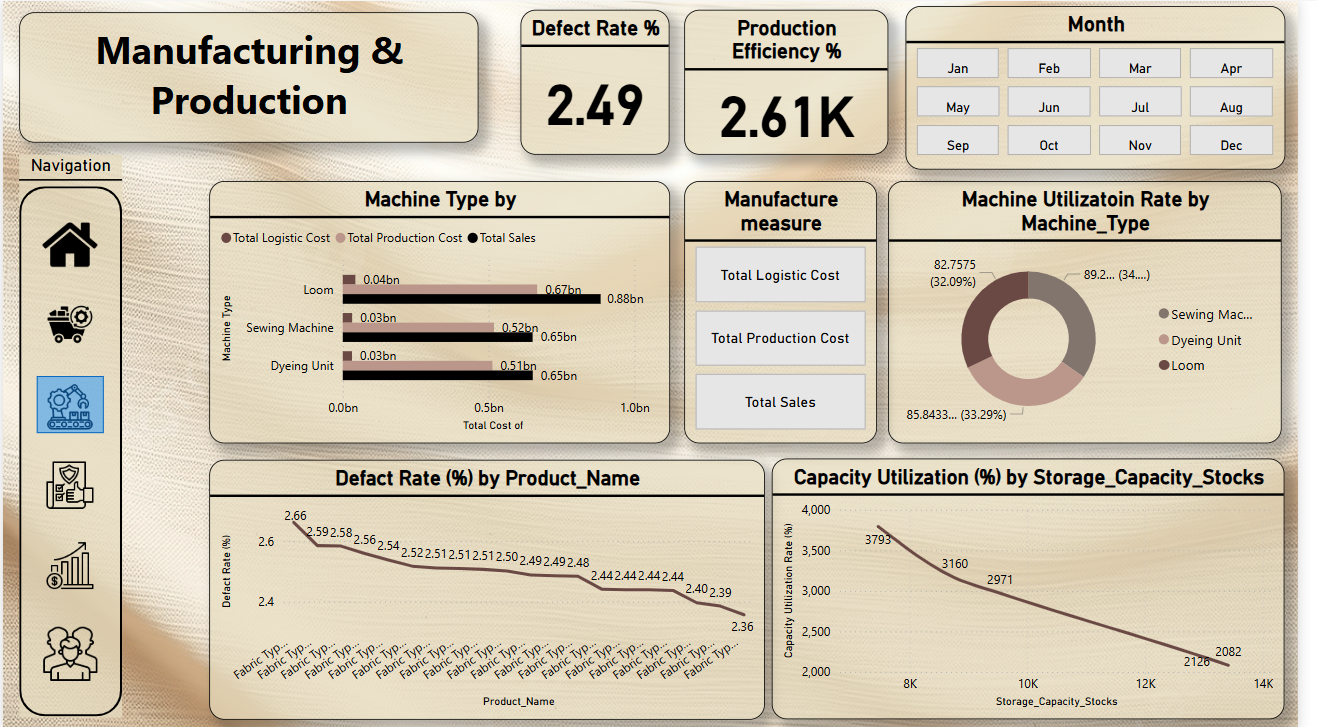

The dashboard page shown, as its layout file describes it:
{"tool":"powerbi","page":{"name":"Manufacturing & Production","canvas":[1280,720],"ordinal":2},"visuals":[{"type":"donutChart","fields":{"Y":["A Measure Tabel.Machine Utilizatoin Rate"],"Category":["Dim_Machine.Machine_Type"]},"box":[873.6,177.9,389,258.9],"z":0},{"type":"lineChart","fields":{"Category":["Dim_Product.Product_Name"],"Y":["A Measure Tabel.Defact Rate (%)"]},"box":[203.7,452.8,548.5,256.4],"z":1000},{"type":"lineChart","title":"Capacity Utilization (%) by Storage_Capacity_Stocks","fields":{"Y":["A Measure Tabel.Capacity Utilization Rate (%)"],"Category":["Dim_Warehouse.Storage_Capacity_Stocks"]},"box":[759.5,451.5,506.8,257.7],"z":2000},{"type":"clusteredBarChart","fields":{"Y":["A Measure Tabel.Total Logistic Cost","A Measure Tabel.Total Production Cost","A Measure Tabel.Total Sales"],"Category":["Dim_Machine.Machine_Type"]},"box":[203.7,177.9,455.2,258.9],"z":3000},{"type":"card","title":"Defect Rate %","fields":{"Values":["A Measure Tabel.Defact Rate (%)"]},"box":[511.7,8.6,147.2,143.6],"z":4000},{"type":"advancedSlicerVisual","title":"Manufacture measure","fields":{"Values":["manufacture measure.manufacture measure"]},"box":[672.4,177.9,190.2,258.9],"z":5000},{"type":"advancedSlicerVisual","fields":{"Values":["Date.Month"]},"box":[890.8,4.9,375.5,162],"z":6000},{"type":"card","title":"Production Efficiency %","fields":{"Values":["A Measure Tabel.Production Efficiency Rate (%)"]},"box":[672.4,8.6,201.2,143.6],"z":7000},{"type":"textbox","box":[16,11,454,128.8],"z":8000},{"type":"shape","title":"Navigation","box":[16,152.1,101.8,555.8],"z":9000,"group":"g1"},{"type":"image","box":[32.7,291.2,66.3,56.4],"z":10000,"group":"g1"},{"type":"image","box":[32.7,373.5,66.3,56.4],"z":11000,"group":"g1"},{"type":"image","box":[32.7,449.5,66.3,57.7],"z":12000,"group":"g1"},{"type":"image","box":[32.7,529.3,66.3,56.4],"z":13000,"group":"g1"},{"type":"image","box":[32.7,612.7,66.3,65],"z":14000,"group":"g1"},{"type":"shape","box":[33.2,370.5,66.3,56.4],"z":15000,"group":"g1"},{"type":"image","box":[32.7,209,66.3,63.8],"z":16000,"group":"g1"},{"type":"group","id":"g1","title":"Group 1","box":[16,152.1,101.8,555.8],"z":16001}]}

Visuals, with their boxes in screenshot pixels (x1, y1, x2, y2), scaled from the page's 1280x720 canvas onto the 1317x727 screenshot:
donutChart - A Measure Tabel.Machine Utilizatoin Rate x Dim_Machine.Machine_Type: [x1=899, y1=180, x2=1299, y2=441]
lineChart - Dim_Product.Product_Name x A Measure Tabel.Defact Rate (%): [x1=210, y1=457, x2=774, y2=716]
"Capacity Utilization (%) by Storage_Capacity_Stocks" lineChart: [x1=781, y1=456, x2=1303, y2=716]
clusteredBarChart - A Measure Tabel.Total Logistic Cost x A Measure Tabel.Total Production Cost: [x1=210, y1=180, x2=678, y2=441]
"Defect Rate %" card: [x1=526, y1=9, x2=678, y2=154]
"Manufacture measure" advancedSlicerVisual: [x1=692, y1=180, x2=888, y2=441]
advancedSlicerVisual - Date.Month: [x1=917, y1=5, x2=1303, y2=169]
"Production Efficiency %" card: [x1=692, y1=9, x2=899, y2=154]
textbox: [x1=16, y1=11, x2=484, y2=141]
"Navigation" shape: [x1=16, y1=154, x2=121, y2=715]
image: [x1=34, y1=294, x2=102, y2=351]
image: [x1=34, y1=377, x2=102, y2=434]
image: [x1=34, y1=454, x2=102, y2=512]
image: [x1=34, y1=534, x2=102, y2=591]
image: [x1=34, y1=619, x2=102, y2=684]
shape: [x1=34, y1=374, x2=102, y2=431]
image: [x1=34, y1=211, x2=102, y2=275]
"Group 1" group: [x1=16, y1=154, x2=121, y2=715]
